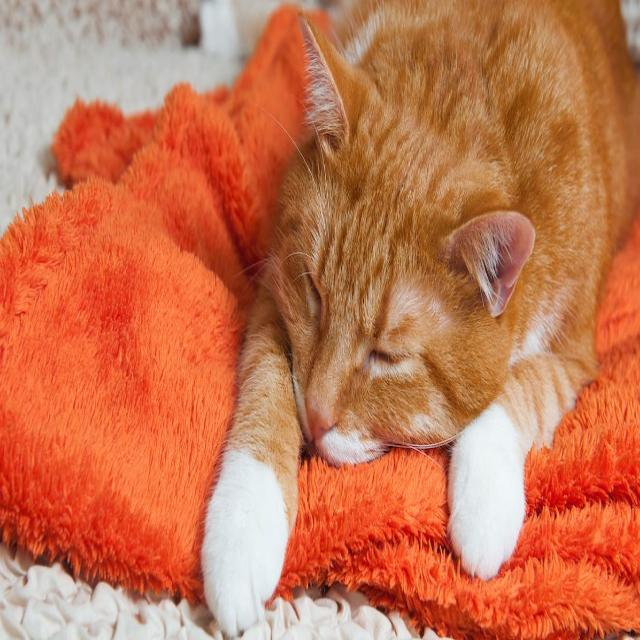Cat: (268, 6, 538, 474)
